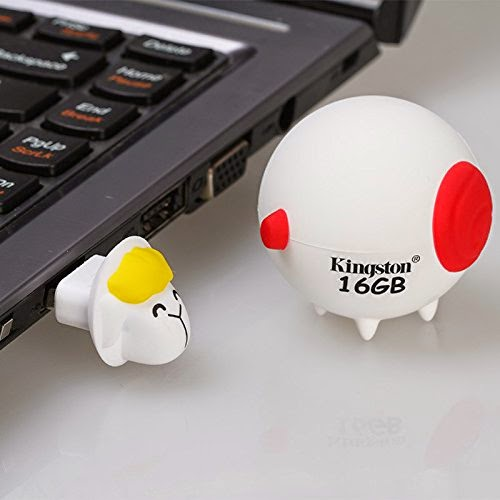Kingston: (320, 250, 429, 282)
